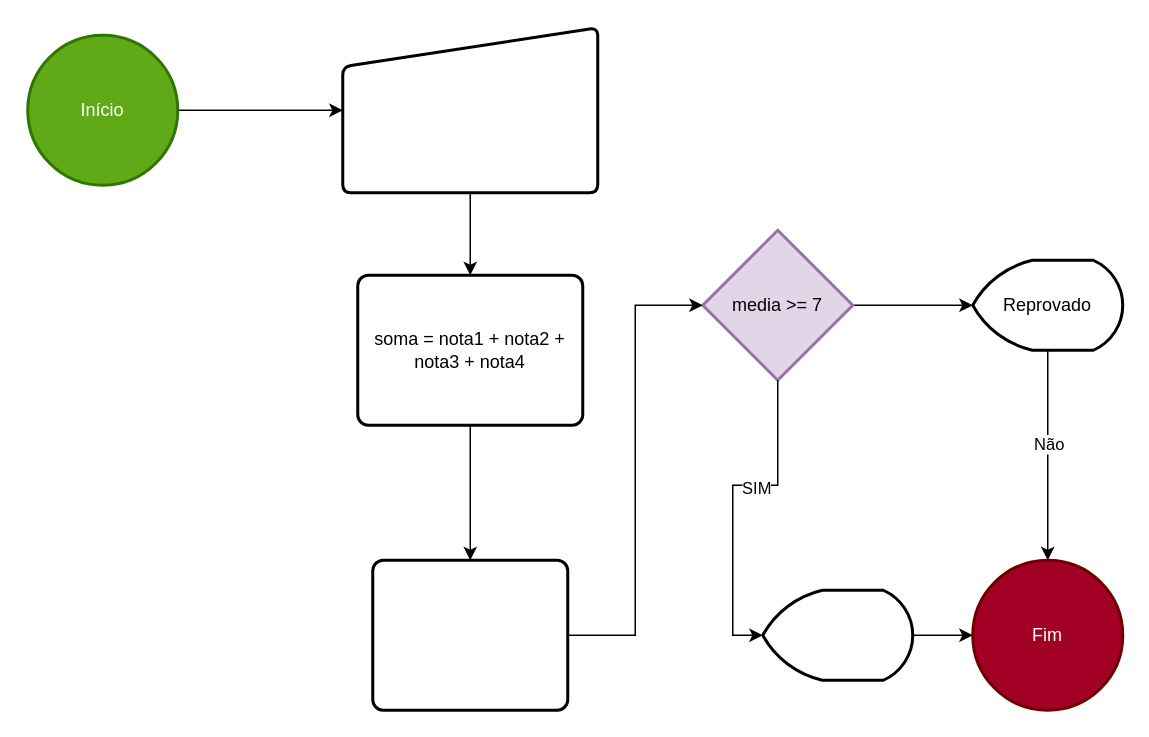
The diagram is 1149 pixels wide and 737 high, and some of its shapes have lost their labels. Here are the shapes that lost their labels. From the top down, the centre of each, then its label:
At [469,110]: "nota1 = X nota2 = X nota3 = X nota4 = X".
At [469,634]: "media = soma / 4".
At [837,634]: "Aprovado".
